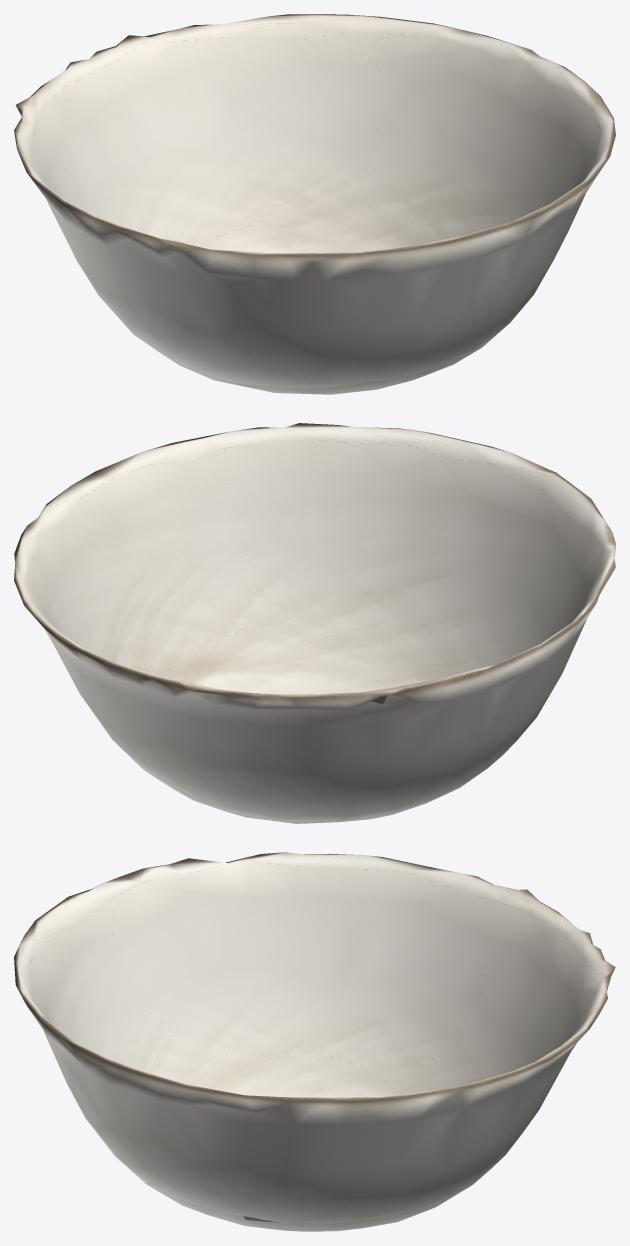
File: WhiteIkeaBowl.dae
3 renders of one model, top to bottom at view 1: azimuth 30°, elevation 25°; view 2: azimuth 150°, elevation 25°; view 3: azimuth 270°, elevation 25°, orthographic. The views are drawn at different scales.
Visible parts, largest first — view 1: WhiteIkeaBowl; view 2: WhiteIkeaBowl; view 3: WhiteIkeaBowl.
Boxes of the visible parts, x1,y1,x2,y2 form: WhiteIkeaBowl: (14,14,615,394); WhiteIkeaBowl: (14,423,615,823); WhiteIkeaBowl: (14,852,615,1231).
Size of the model in its own units: 0.1564 by 0.1608 by 0.0629.
1 material, 1 textured.
